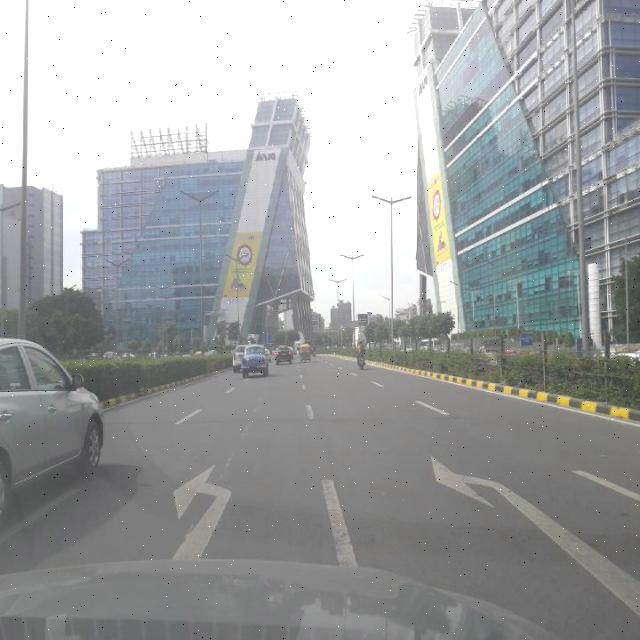D00: (181, 382, 273, 542)
